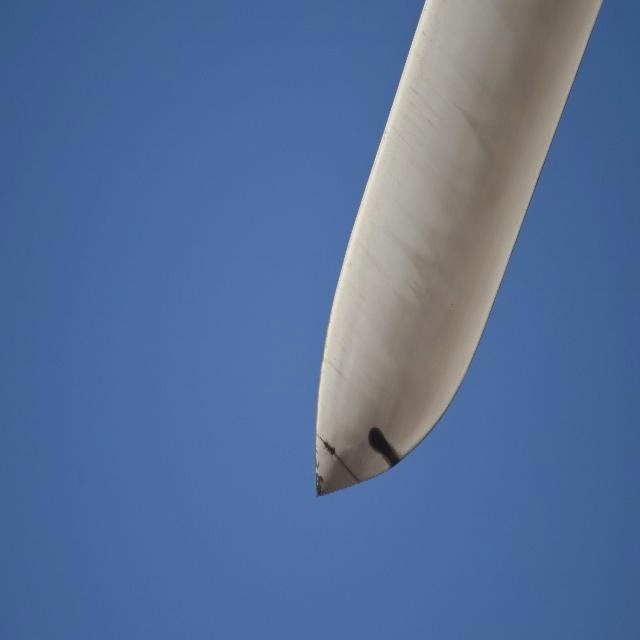Burn Mark: (366, 421, 402, 472), (318, 432, 343, 456)
Coating_defects: (306, 458, 329, 502)
